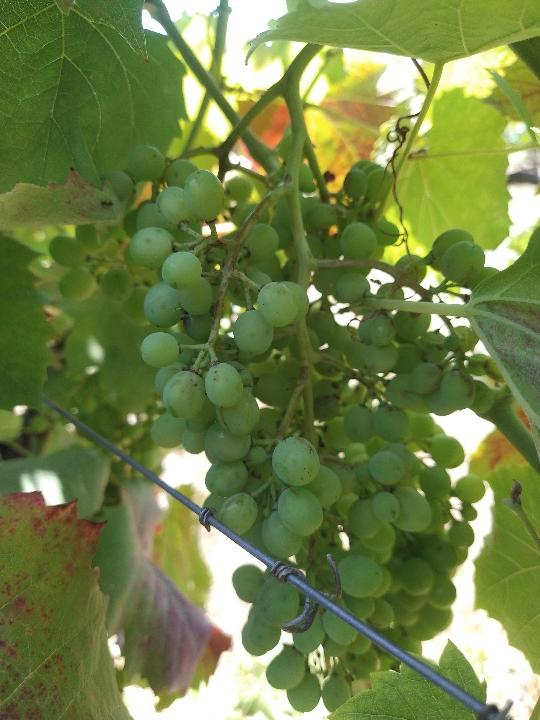grape: (42, 133, 499, 715)
